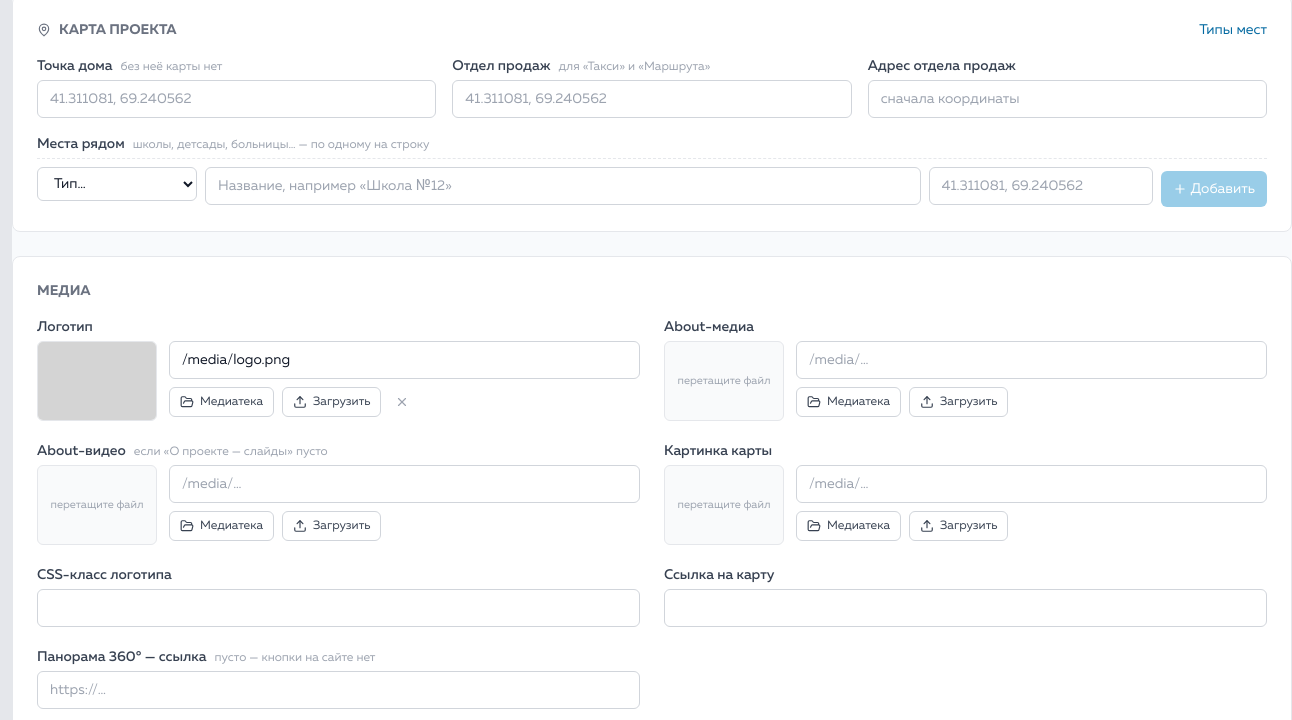
Test case: ComplexForm — «Сохранить ЖК» › кнопка стоит в закреплённой полосе страницы и сохраняет черновик без служебных полей
The image size is (1292, 720).
(page scrolled)
Replace the text in the field named "Логотип" with "/media/new-logo.svg" at (404, 360), box [169,341,640,379]
(page scrolled)
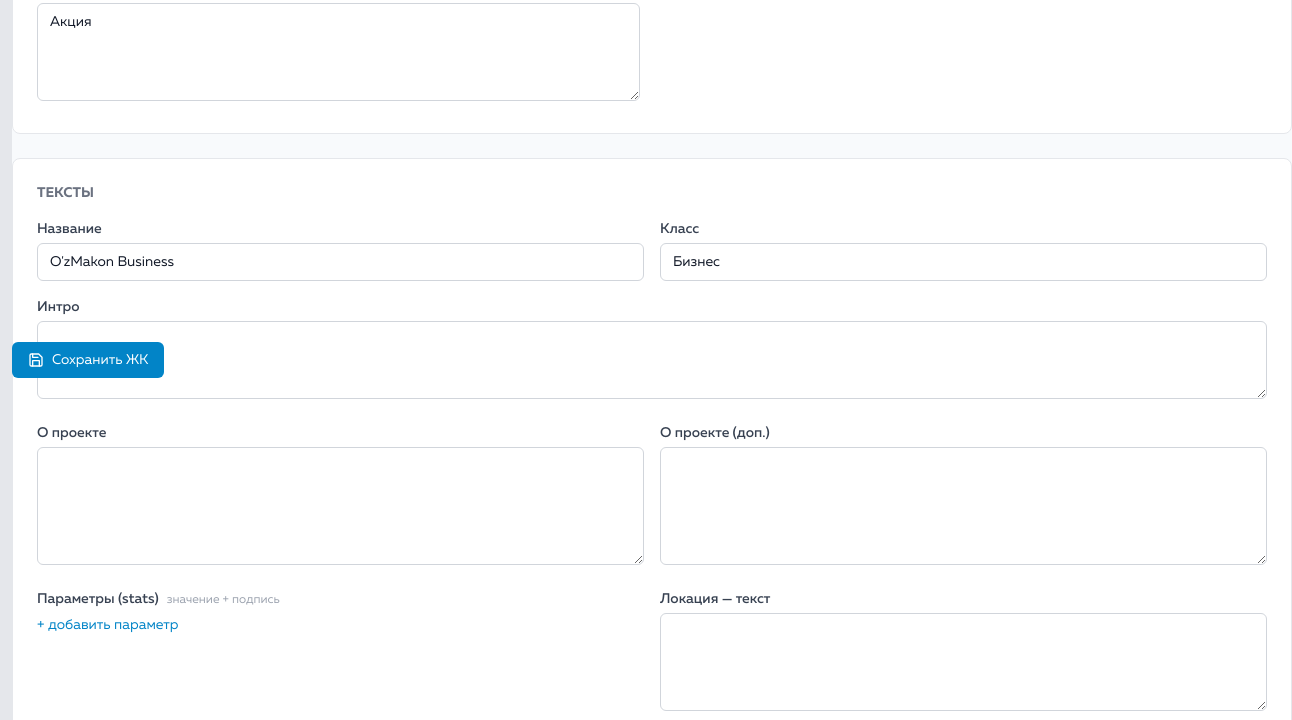
Click the button "Сохранить ЖК" at (88, 360), box [12,342,164,378]
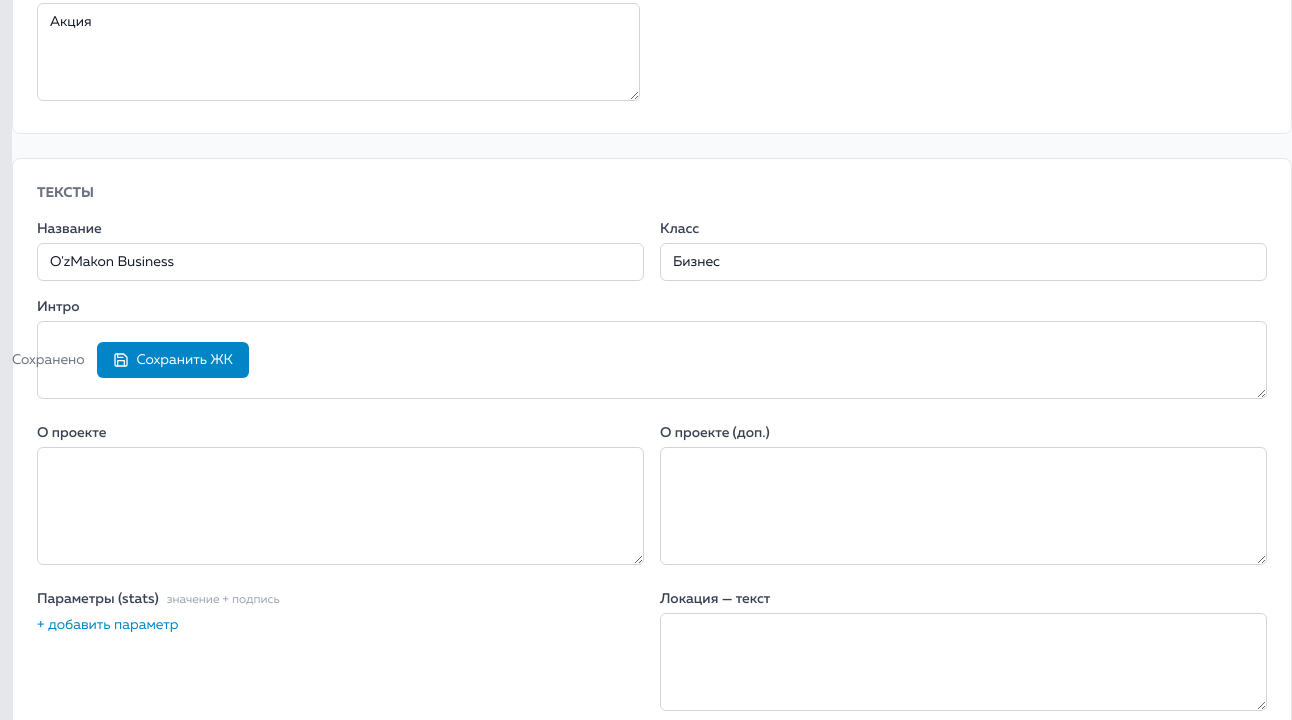
Expected: the text "Сохранено" is shown, [12,350,85,370]
